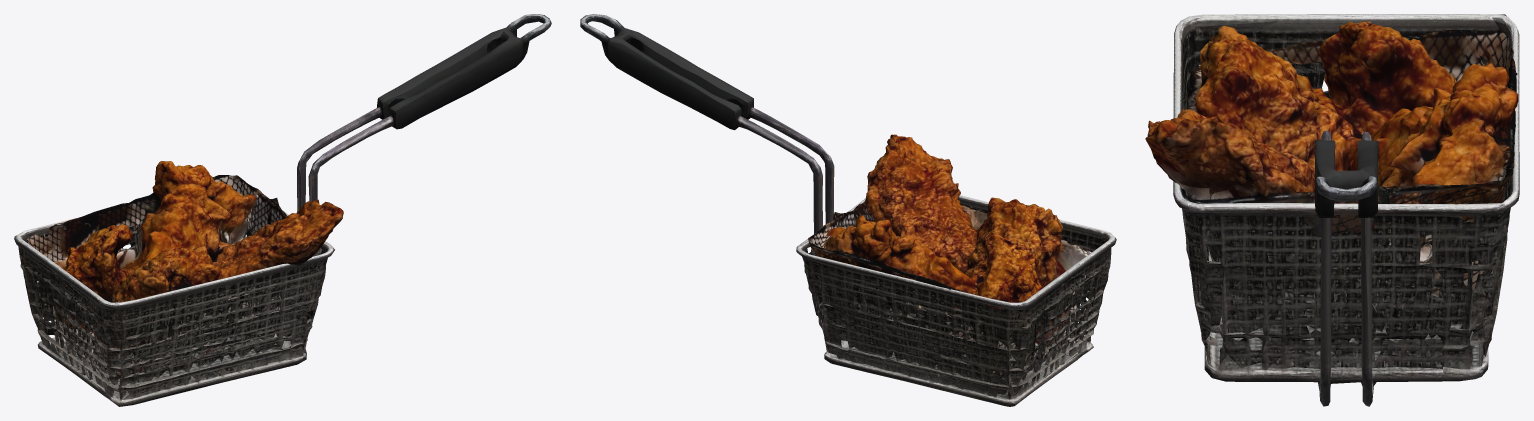
File: chrispy.children.box.constrant.glb
The picture shows the model from 3 angles, left to right: view 1: azimuth 30°, elevation 25°; view 2: azimuth 150°, elevation 25°; view 3: azimuth 270°, elevation 25°; orthographic projection. The views are drawn at different scales.
Visible parts, largest first — view 1: /Root/Scenes/Scene/Object_37/Object_41/Object_42/Submesh_0, /Root/Scenes/Scene/Object_37/Object_38/Submesh_0; view 2: /Root/Scenes/Scene/Object_37/Object_41/Object_42/Submesh_0, /Root/Scenes/Scene/Object_37/Object_38/Submesh_0; view 3: /Root/Scenes/Scene/Object_37/Object_41/Object_42/Submesh_0, /Root/Scenes/Scene/Object_37/Object_38/Submesh_0.
Boxes of the visible parts, x1,y1,x2,y2 form: /Root/Scenes/Scene/Object_37/Object_41/Object_42/Submesh_0: (14,14,551,406); /Root/Scenes/Scene/Object_37/Object_38/Submesh_0: (27,161,343,383); /Root/Scenes/Scene/Object_37/Object_41/Object_42/Submesh_0: (580,14,1116,406); /Root/Scenes/Scene/Object_37/Object_38/Submesh_0: (808,134,1091,384); /Root/Scenes/Scene/Object_37/Object_41/Object_42/Submesh_0: (1173,14,1519,406); /Root/Scenes/Scene/Object_37/Object_38/Submesh_0: (1145,21,1518,308).
Size of the model in its own units: 0.2976 by 0.1473 by 0.1148.
2 materials, 2 textured.
